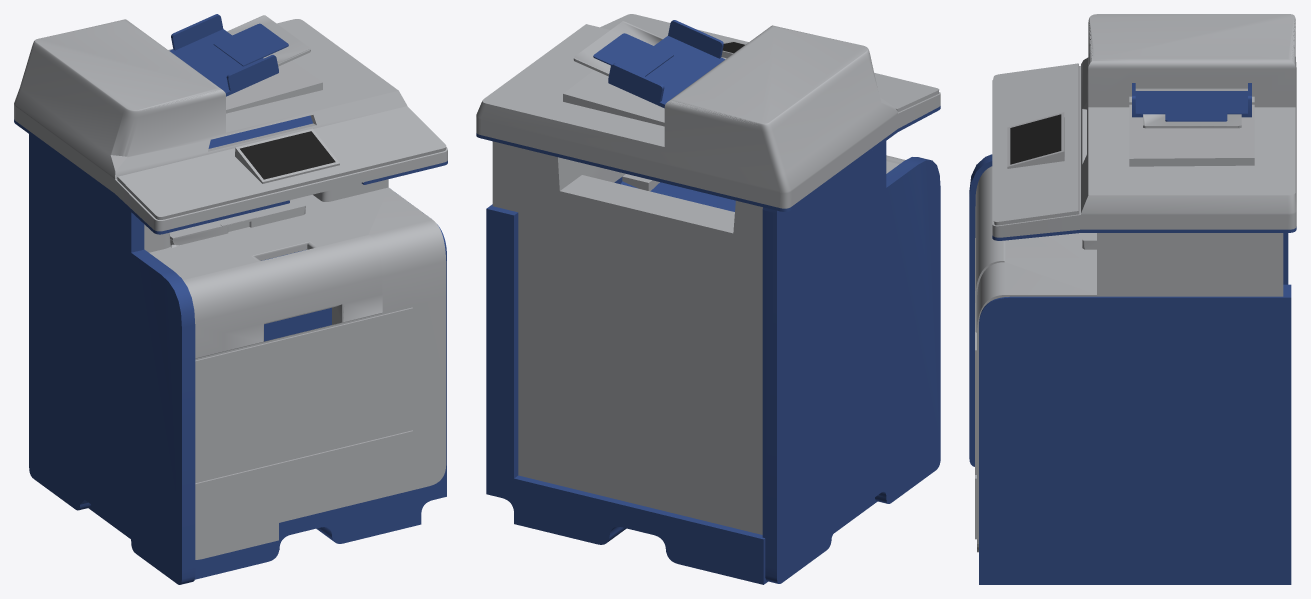
3 renders of one model, left to right at view 1: azimuth 30°, elevation 25°; view 2: azimuth 150°, elevation 25°; view 3: azimuth 270°, elevation 25°, orthographic. The views are drawn at different scales.
Parts seen in each view (by area): view 1: Box2296; view 2: Box2296; view 3: Box2296.
Part boxes in pixels (<box>): Box2296: <box>14,14,447,584</box>; Box2296: <box>476,14,940,584</box>; Box2296: <box>969,14,1296,584</box>.
Size of the model in its own units: 0.7484 by 1.06 by 0.6936.
